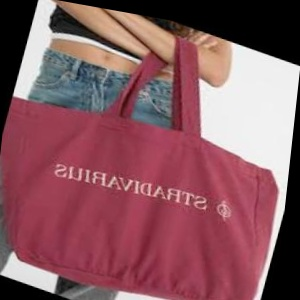stradivarius: (211, 101, 269, 246)
